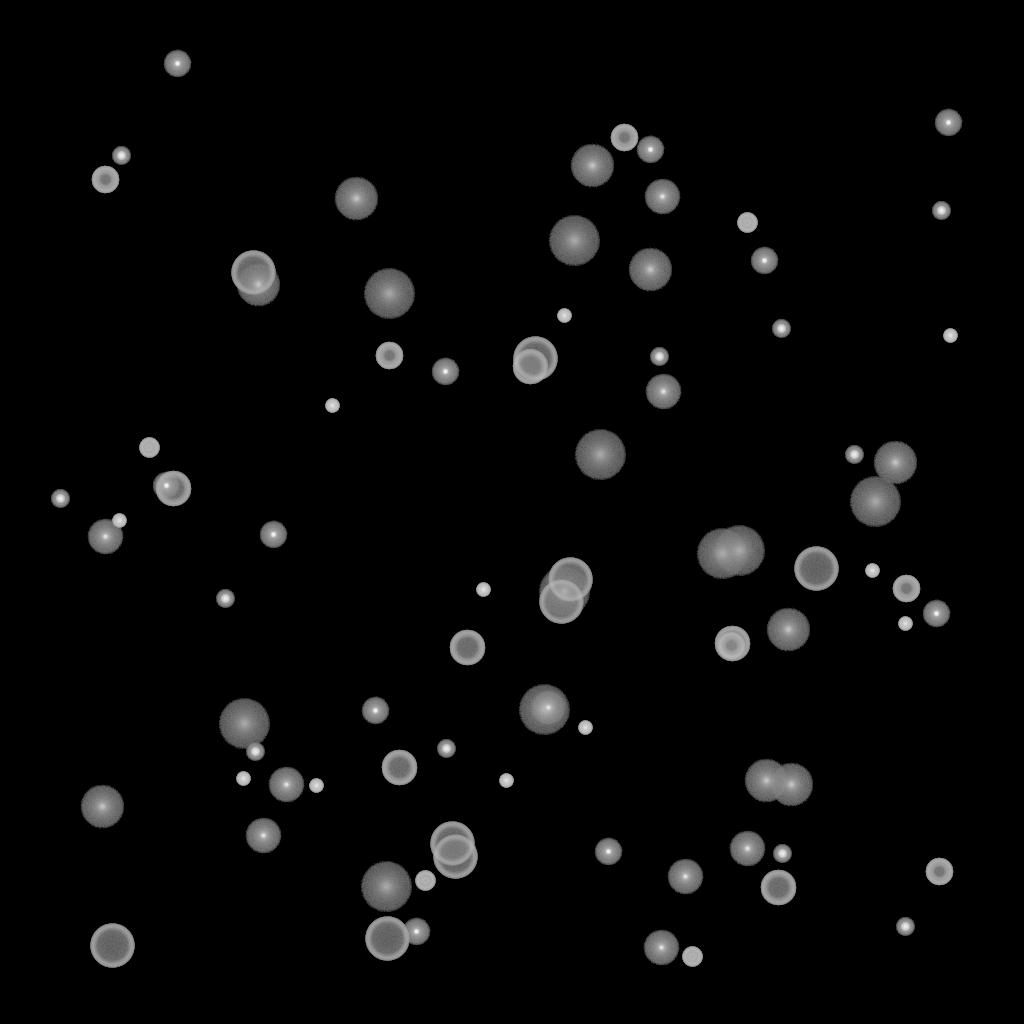depth:-10: (152, 472, 180, 500), (431, 358, 459, 386), (361, 697, 389, 725), (934, 109, 962, 137), (594, 838, 622, 866), (402, 918, 430, 946), (259, 521, 287, 549), (922, 600, 950, 628), (750, 247, 778, 275), (163, 50, 191, 78), (636, 136, 664, 164)
depth:-20: (932, 202, 950, 220), (650, 348, 668, 366), (772, 320, 790, 338), (246, 743, 264, 761), (773, 845, 791, 863), (51, 490, 69, 508), (896, 918, 914, 936), (845, 446, 863, 464), (437, 740, 455, 758), (112, 147, 130, 165), (216, 590, 234, 608)
depth:-30: (865, 564, 879, 578), (943, 329, 957, 343), (309, 779, 323, 793), (476, 583, 490, 597), (578, 721, 592, 735), (325, 399, 339, 413), (236, 772, 250, 786), (499, 774, 513, 788), (557, 309, 571, 323), (112, 514, 126, 528), (898, 617, 912, 631)
depth:-40: (682, 947, 702, 967), (139, 438, 159, 458), (737, 213, 757, 233), (415, 871, 435, 891)
depth:-50: (610, 124, 638, 152), (925, 858, 953, 886), (91, 166, 119, 194), (375, 342, 403, 370), (717, 632, 745, 660), (892, 575, 920, 603)
depth:-60: (760, 870, 796, 906), (155, 471, 191, 507), (381, 750, 417, 786), (449, 630, 485, 666), (714, 626, 750, 662), (512, 349, 548, 385)
depth:-70: (365, 917, 409, 961), (539, 580, 583, 624), (794, 547, 838, 591), (430, 822, 474, 866), (231, 251, 275, 295), (433, 835, 477, 879), (548, 558, 592, 602), (90, 924, 134, 968), (513, 337, 557, 381)
depth:0: (644, 179, 680, 215), (268, 767, 304, 803), (643, 930, 679, 966), (645, 374, 681, 410), (729, 831, 765, 867), (667, 859, 703, 895), (87, 519, 123, 555), (245, 818, 281, 854), (530, 690, 566, 726)
depth:10: (744, 759, 788, 803), (236, 263, 280, 307), (628, 248, 672, 292), (334, 177, 378, 221), (769, 763, 813, 807), (873, 441, 917, 485), (766, 608, 810, 652), (80, 785, 124, 829), (570, 144, 614, 188)
depth:20: (548, 216, 600, 266), (849, 477, 901, 527), (363, 269, 415, 319), (518, 685, 570, 735), (696, 529, 748, 579), (538, 567, 590, 617), (218, 699, 270, 749), (360, 862, 412, 912), (713, 526, 765, 576), (574, 430, 626, 480)
